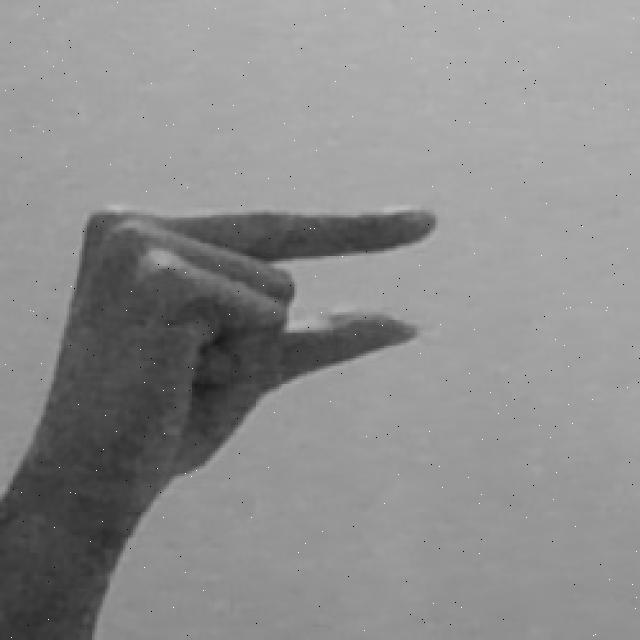G: (0, 194, 443, 640)
